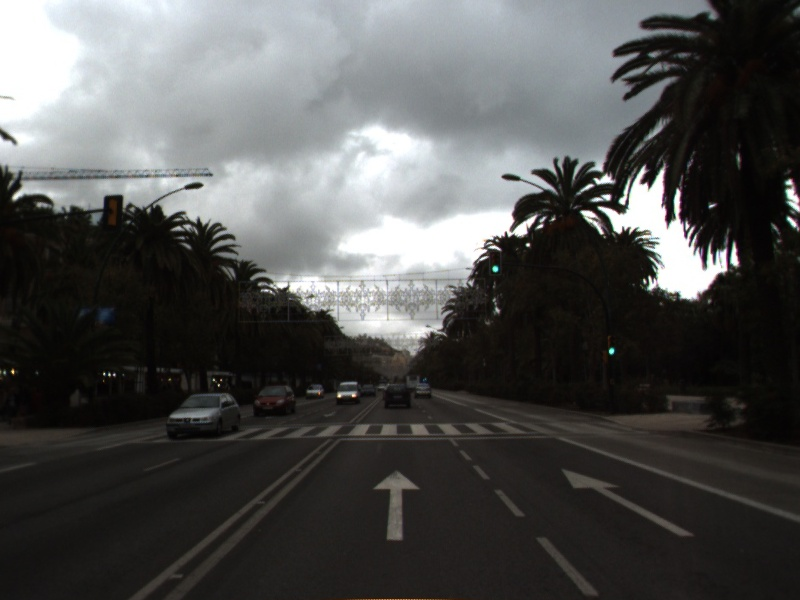STRAIGHT: (560, 467, 696, 539), (370, 468, 423, 543)
